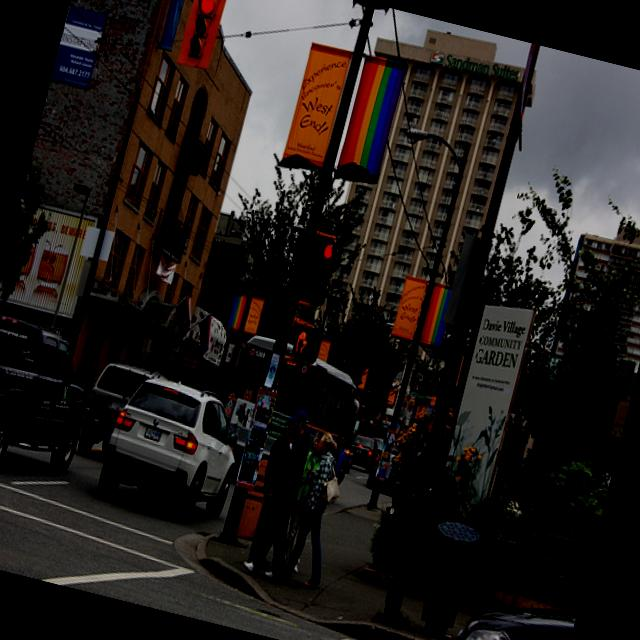Vehicle: (93, 366, 254, 532), (212, 331, 372, 487), (0, 314, 103, 489), (72, 360, 150, 466), (434, 591, 575, 640), (364, 445, 402, 495), (343, 432, 381, 474), (332, 440, 356, 486), (370, 436, 384, 455), (383, 432, 398, 448)
